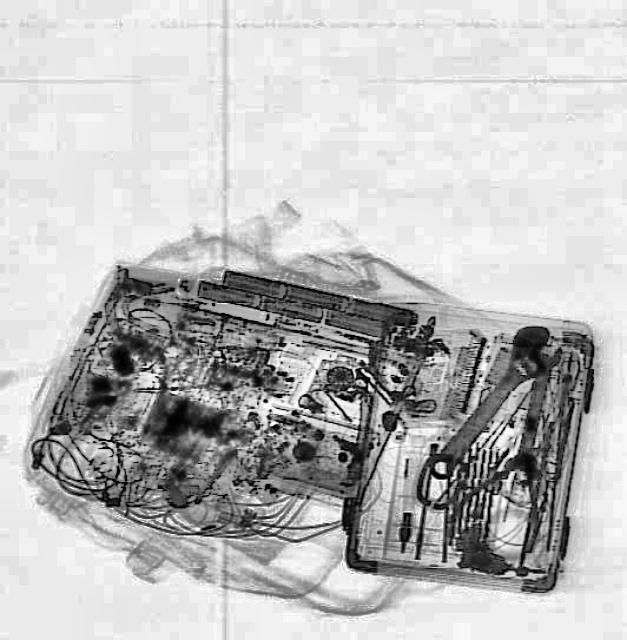Wrench: (413, 315, 572, 489), (502, 342, 564, 476)
